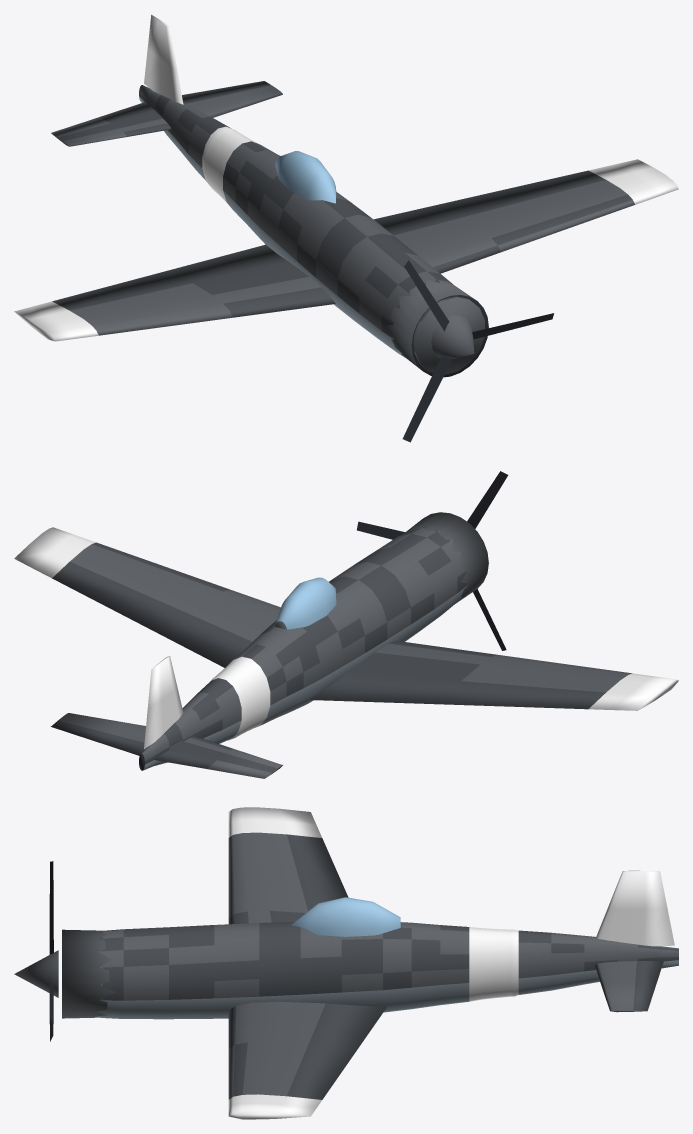
3 renders of one model, top to bottom at view 1: azimuth 30°, elevation 25°; view 2: azimuth 150°, elevation 25°; view 3: azimuth 270°, elevation 25°, orthographic.
Visible parts, largest first — view 1: body, prop; view 2: body, prop; view 3: body, prop.
Part boxes in pixels (x1,y1,x2,y2): body: [14, 14, 678, 377]; prop: [402, 260, 553, 442]; body: [14, 512, 678, 778]; prop: [357, 471, 508, 650]; body: [62, 807, 678, 1119]; prop: [14, 861, 58, 1041].
Bounding box in the file's own units: 10.51 × 3.12 × 9.7.
